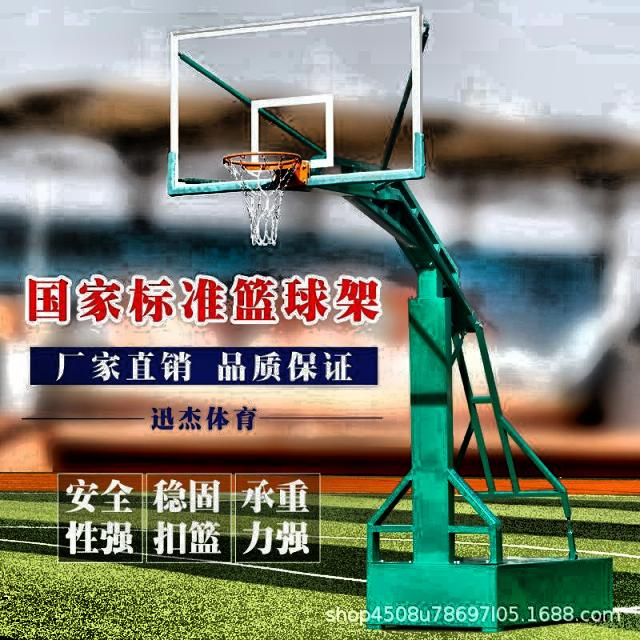rim: (224, 151, 304, 246)
